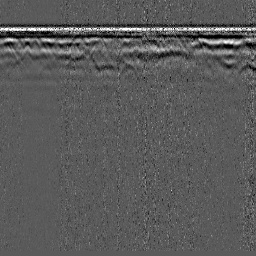cavity: (116, 61, 141, 83)
